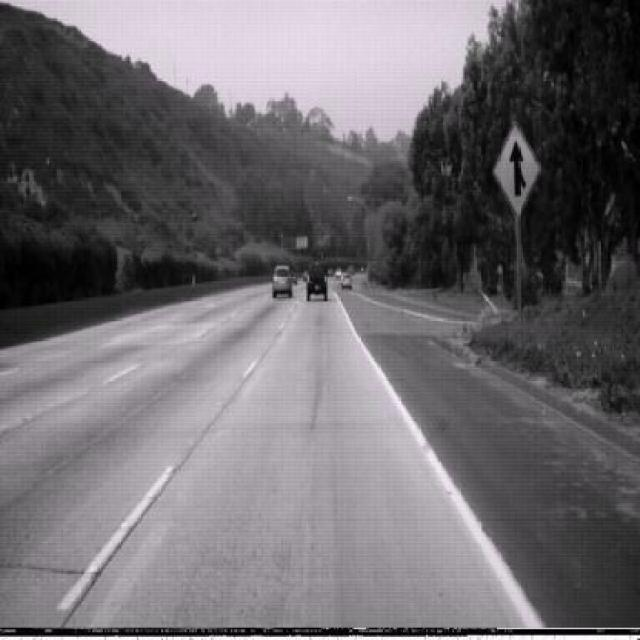merge: (492, 120, 542, 218)
